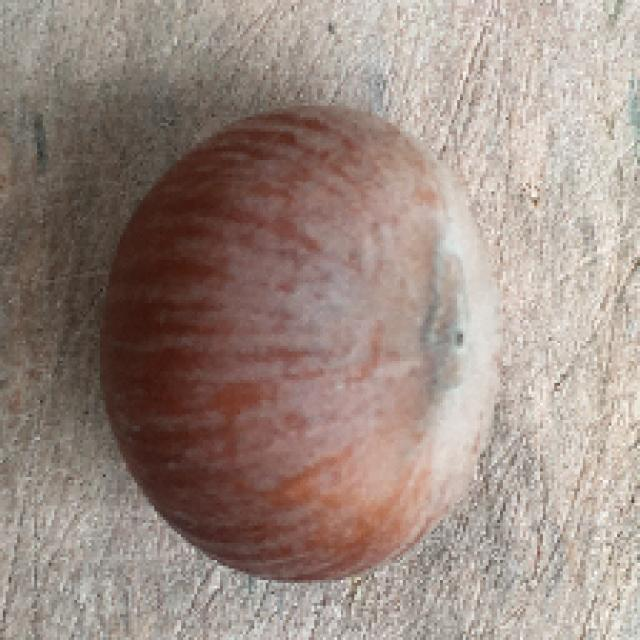hazelnut: (97, 82, 493, 586)
